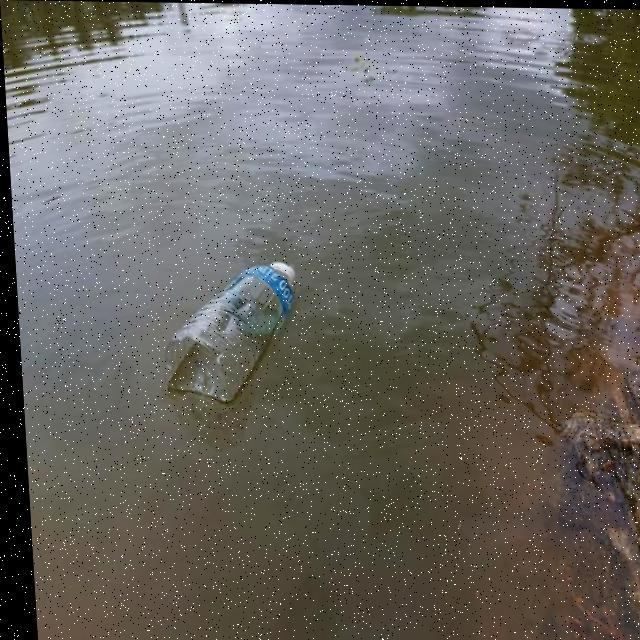waterbottle: (152, 227, 319, 421)
